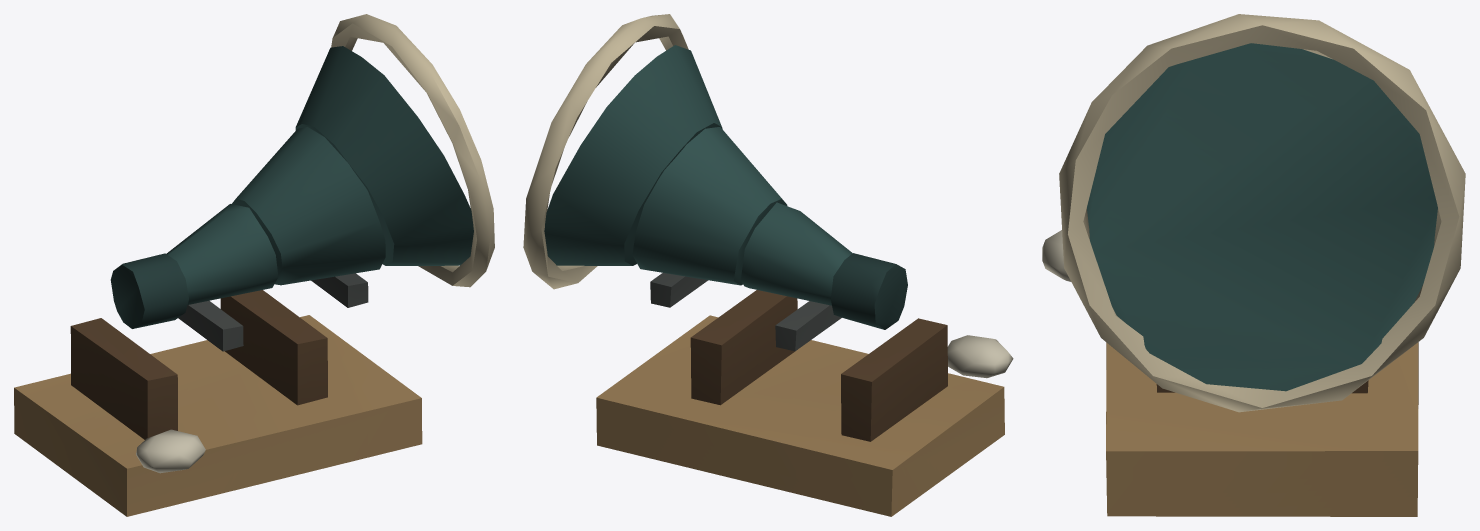
File: echo_horn_a_lod2.glb
3 views of the same model, side by side, from view 1: azimuth 30°, elevation 25°; view 2: azimuth 150°, elevation 25°; view 3: azimuth 270°, elevation 25° (orthographic). The views are drawn at different scales.
Visible parts, largest first — view 1: Surface.001; view 2: Surface.001; view 3: Surface.001.
Boxes of the visible parts, <box> form: Surface.001: <box>14,14,494,516</box>; Surface.001: <box>523,14,1013,516</box>; Surface.001: <box>1042,14,1465,516</box>.
Bounding box in the file's own units: 3 × 2.86 × 2.12.
